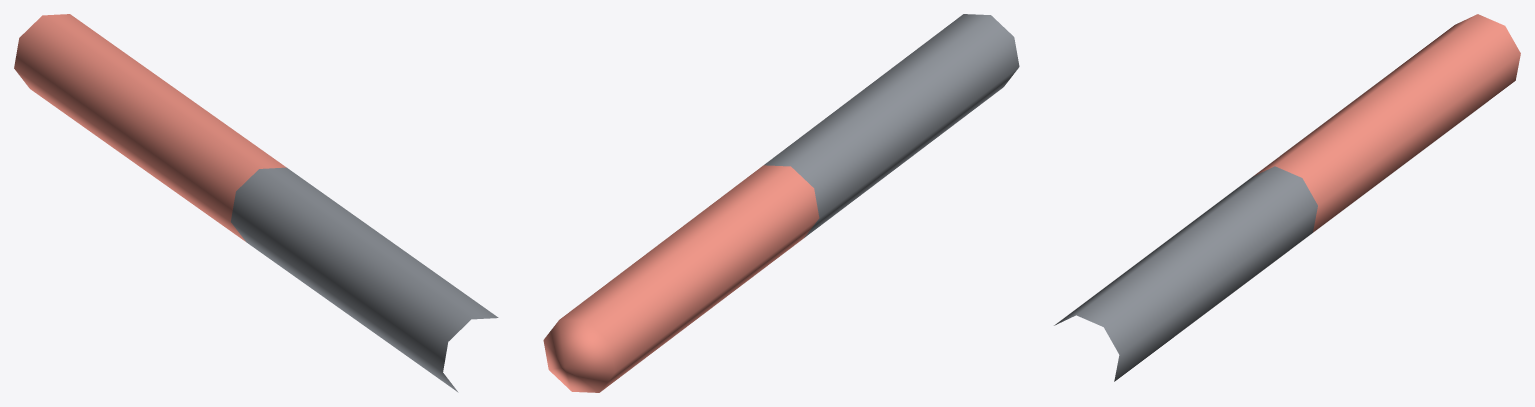
Rendered from apap_sigma_scaffold.glb.
The picture shows the model from 3 angles, left to right: view 1: azimuth 30°, elevation 25°; view 2: azimuth 150°, elevation 25°; view 3: azimuth 330°, elevation 25°; orthographic projection. The views are drawn at different scales.
Visible parts, largest first — view 1: apap_sigma_scaffold; view 2: apap_sigma_scaffold; view 3: apap_sigma_scaffold.
Part boxes in pixels (<box>): apap_sigma_scaffold: <box>14,14,498,392</box>; apap_sigma_scaffold: <box>543,14,1019,392</box>; apap_sigma_scaffold: <box>1054,14,1520,381</box>.
Size of the model in its own units: 0.1541 by 0.1392 by 1.43.
